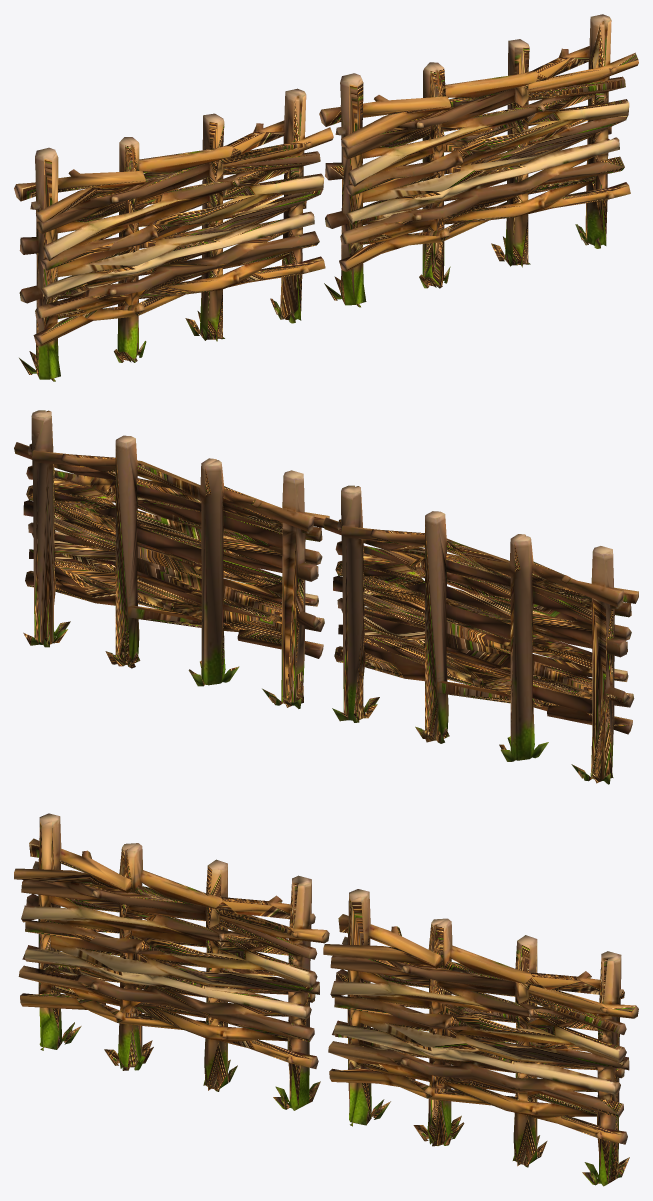
File: wattle-fence.glb
3 views of the same model, one above another, from view 1: azimuth 30°, elevation 25°; view 2: azimuth 150°, elevation 25°; view 3: azimuth 330°, elevation 25° (orthographic).
Parts seen in each view (by area): view 1: node_0-tile1, node_0; view 2: node_0-tile1, node_0; view 3: node_0-tile1, node_0.
Part boxes in pixels (box(x1,y1,x2,y2)): node_0-tile1: box(319, 14, 638, 307); node_0: box(14, 88, 333, 381); node_0-tile1: box(14, 410, 329, 708); node_0: box(323, 485, 638, 784); node_0-tile1: box(323, 889, 638, 1186); node_0: box(14, 813, 329, 1110).
Size of the model in its own units: 3.38 by 1.2 by 0.2986.
Materials: 1 (1 with a texture image).
